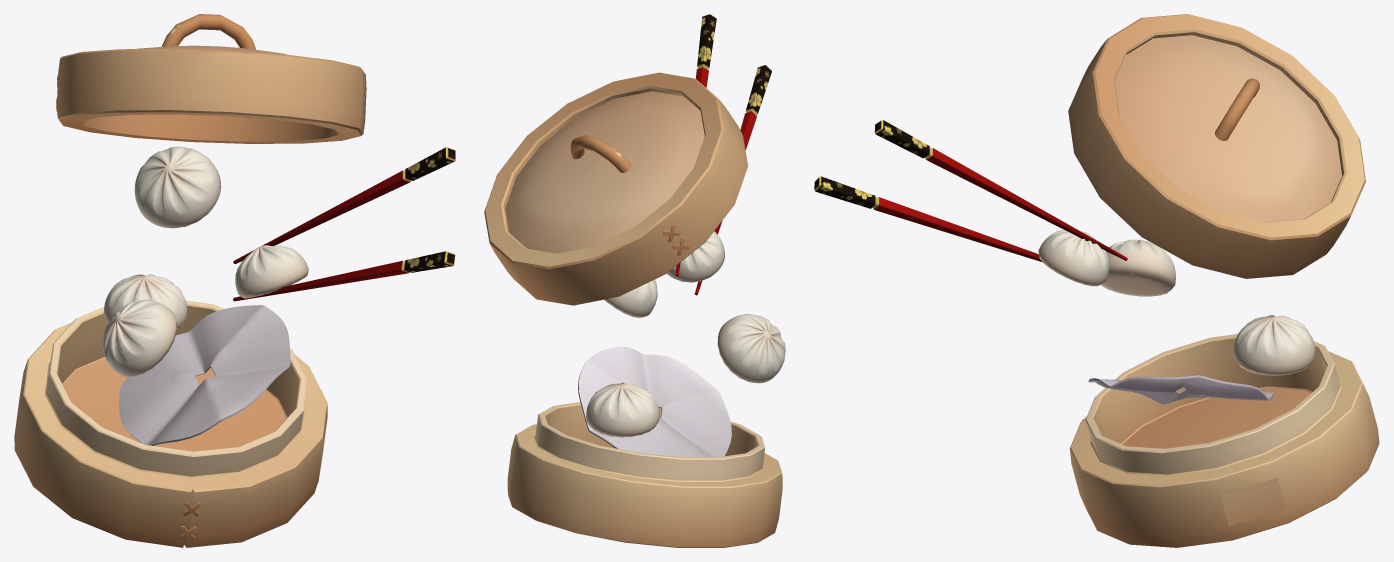
Rendered from asset.glb.
3 views of the same model, side by side, from view 1: azimuth 30°, elevation 25°; view 2: azimuth 150°, elevation 25°; view 3: azimuth 270°, elevation 25° (orthographic). The views are drawn at different scales.
Visible parts, largest first — view 1: dumpling_4:bottom_steamer, dumpling_4:top_streamer, dumpling_4:pDisc1, dumpling_4:Dumpling1, dumpling_4:Dumpling3, dumpling_4:Dumpling2, dumpling_4:chopstickchopstick, dumpling_4:Dumpling, dumpling_4:chopstick1chopstick, dumpling_4:pCylinder22; view 2: dumpling_4:top_streamer, dumpling_4:bottom_steamer, dumpling_4:pDisc1, dumpling_4:Dumpling3, dumpling_4:Dumpling, dumpling_4:Dumpling2, dumpling_4:Dumpling1, dumpling_4:chopstick1chopstick, dumpling_4:pCylinder22, dumpling_4:chopstickchopstick; view 3: dumpling_4:top_streamer, dumpling_4:bottom_steamer, dumpling_4:Dumpling, dumpling_4:Dumpling3, dumpling_4:pDisc1, dumpling_4:chopstickchopstick, dumpling_4:chopstick1chopstick, dumpling_4:Dumpling2, dumpling_4:pCylinder22.
Boxes of the visible parts, x1,y1,x2,y2 form: dumpling_4:bottom_steamer: (14, 300, 327, 547); dumpling_4:top_streamer: (57, 45, 366, 143); dumpling_4:pDisc1: (119, 305, 290, 445); dumpling_4:Dumpling1: (134, 146, 221, 228); dumpling_4:Dumpling3: (102, 299, 176, 376); dumpling_4:Dumpling2: (235, 245, 308, 298); dumpling_4:chopstickchopstick: (233, 147, 455, 263); dumpling_4:Dumpling: (103, 274, 187, 328); dumpling_4:chopstick1chopstick: (233, 251, 455, 301); dumpling_4:pCylinder22: (161, 14, 256, 49); dumpling_4:top_streamer: (484, 72, 747, 305); dumpling_4:bottom_steamer: (507, 402, 782, 547); dumpling_4:pDisc1: (578, 346, 731, 457); dumpling_4:Dumpling3: (717, 314, 785, 383); dumpling_4:Dumpling: (586, 382, 659, 437); dumpling_4:Dumpling2: (666, 231, 724, 282); dumpling_4:Dumpling1: (604, 279, 657, 318); dumpling_4:chopstick1chopstick: (695, 65, 771, 295); dumpling_4:pCylinder22: (570, 135, 631, 172); dumpling_4:chopstickchopstick: (675, 14, 716, 276); dumpling_4:top_streamer: (1068, 14, 1365, 278); dumpling_4:bottom_steamer: (1069, 334, 1379, 547); dumpling_4:Dumpling: (1233, 315, 1315, 375); dumpling_4:Dumpling3: (1101, 239, 1175, 296); dumpling_4:pDisc1: (1088, 375, 1274, 404); dumpling_4:chopstickchopstick: (874, 120, 1127, 260); dumpling_4:chopstick1chopstick: (814, 176, 1106, 280); dumpling_4:Dumpling2: (1038, 230, 1108, 286); dumpling_4:pCylinder22: (1215, 78, 1259, 140).
Bounding box in the file's own units: 0.0525 × 0.0786 × 0.0852.
Materials: 5 (5 with a texture image).
